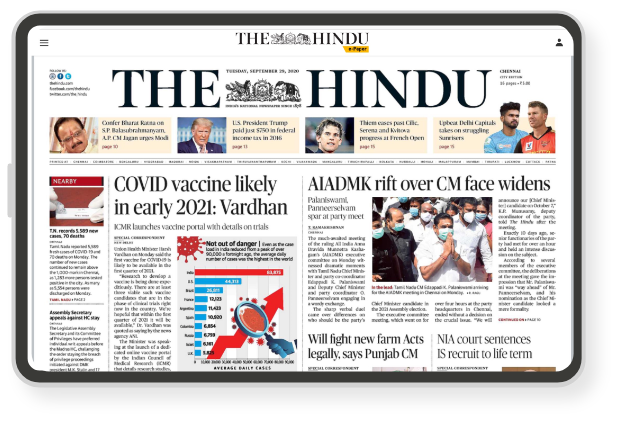news_paper: (17, 12, 598, 399)
